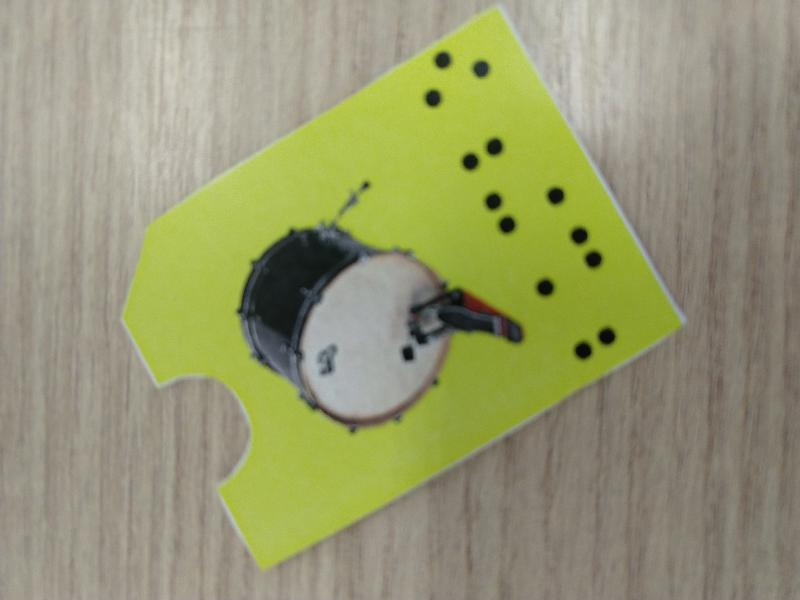bumbo: (115, 6, 686, 576)
